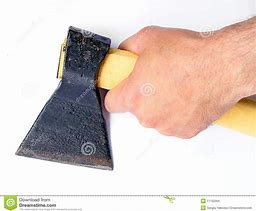axe: (14, 23, 256, 174)
